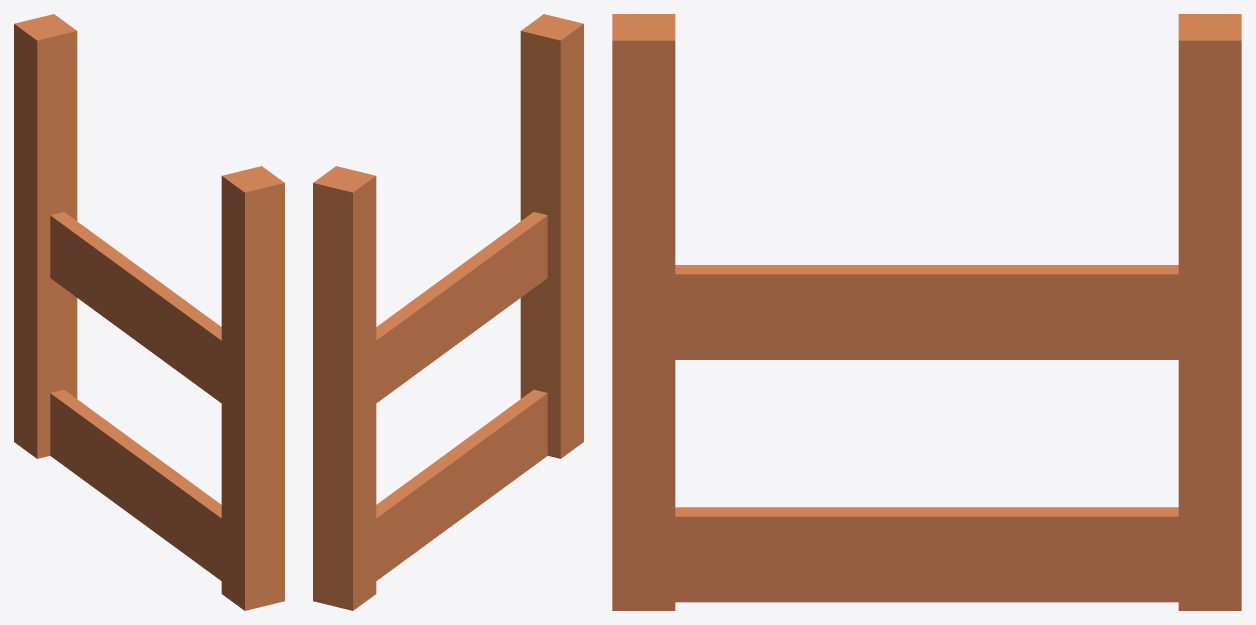
Rendered from polesHorizontal.fbx.
3 views of the same model, side by side, from view 1: azimuth 30°, elevation 25°; view 2: azimuth 150°, elevation 25°; view 3: azimuth 270°, elevation 25° (orthographic). The views are drawn at different scales.
Visible parts, largest first — view 1: polesHorizontal; view 2: polesHorizontal; view 3: polesHorizontal.
Boxes of the visible parts, bbox=[...] form: polesHorizontal: bbox=[14, 14, 284, 610]; polesHorizontal: bbox=[313, 14, 583, 610]; polesHorizontal: bbox=[612, 14, 1241, 610].
Bounding box in the file's own units: 1 × 10 × 10.
